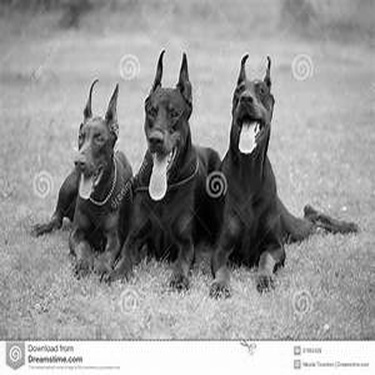dog: (201, 15, 366, 304), (85, 30, 233, 306), (16, 63, 143, 304)
